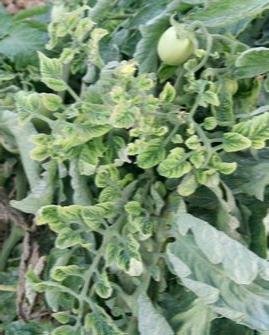Tomato leaf yellow virus: (41, 119, 99, 159), (148, 151, 195, 186), (32, 51, 68, 94), (118, 233, 146, 286), (241, 107, 269, 156), (104, 101, 149, 131), (134, 139, 171, 174), (31, 203, 72, 234), (91, 165, 123, 204), (216, 129, 248, 159), (15, 90, 40, 127), (79, 206, 108, 228)
